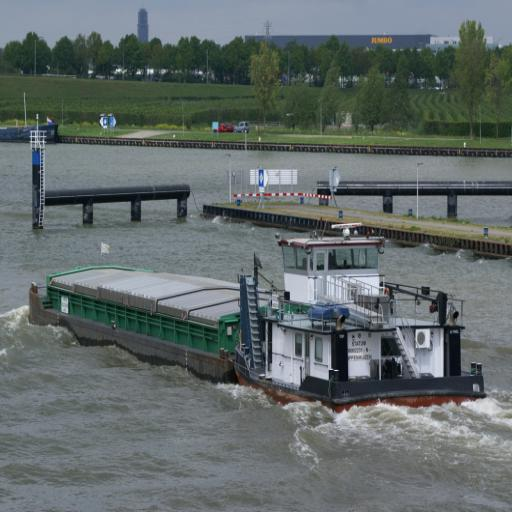tugboat: (232, 219, 491, 423)
